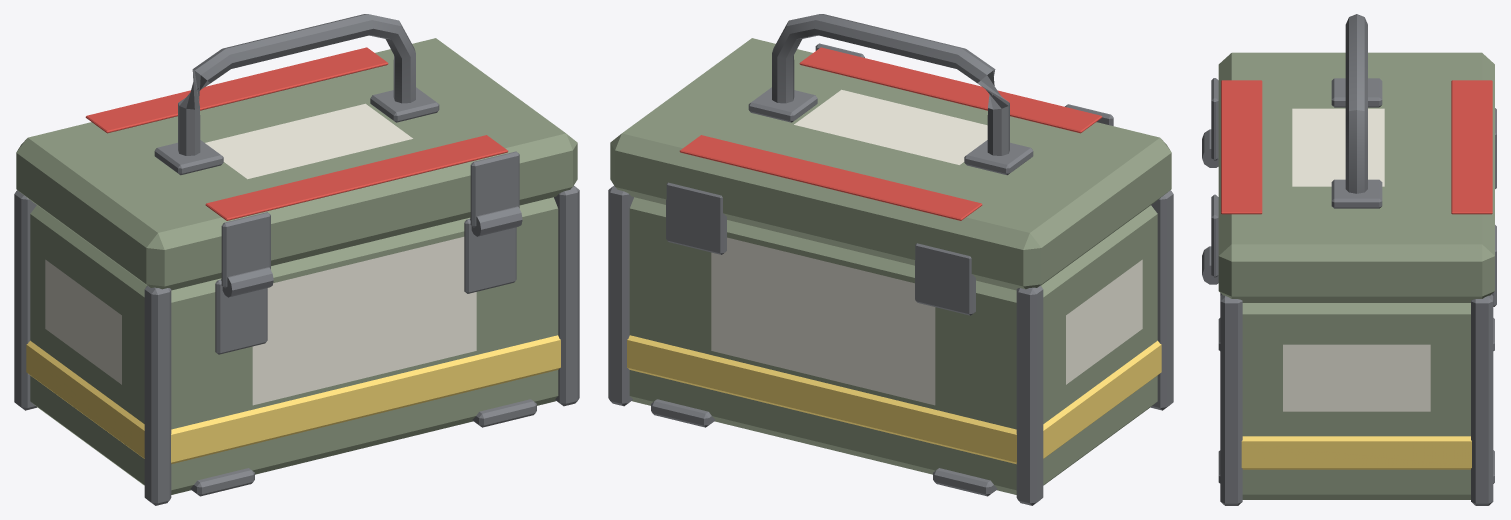
File: Pickup_AmmoCache.fbx
The picture shows the model from 3 angles, left to right: view 1: azimuth 30°, elevation 25°; view 2: azimuth 150°, elevation 25°; view 3: azimuth 270°, elevation 25°; orthographic projection. The views are drawn at different scales.
Parts seen in each view (by area): view 1: Pickup_AmmoCache; view 2: Pickup_AmmoCache; view 3: Pickup_AmmoCache.
Part boxes in pixels (box(x1,y1,x2,y2)): Pickup_AmmoCache: box(14, 14, 579, 505); Pickup_AmmoCache: box(608, 14, 1173, 505); Pickup_AmmoCache: box(1202, 14, 1496, 505).
Bounding box in the file's own units: 0.52 × 0.43 × 0.32.
